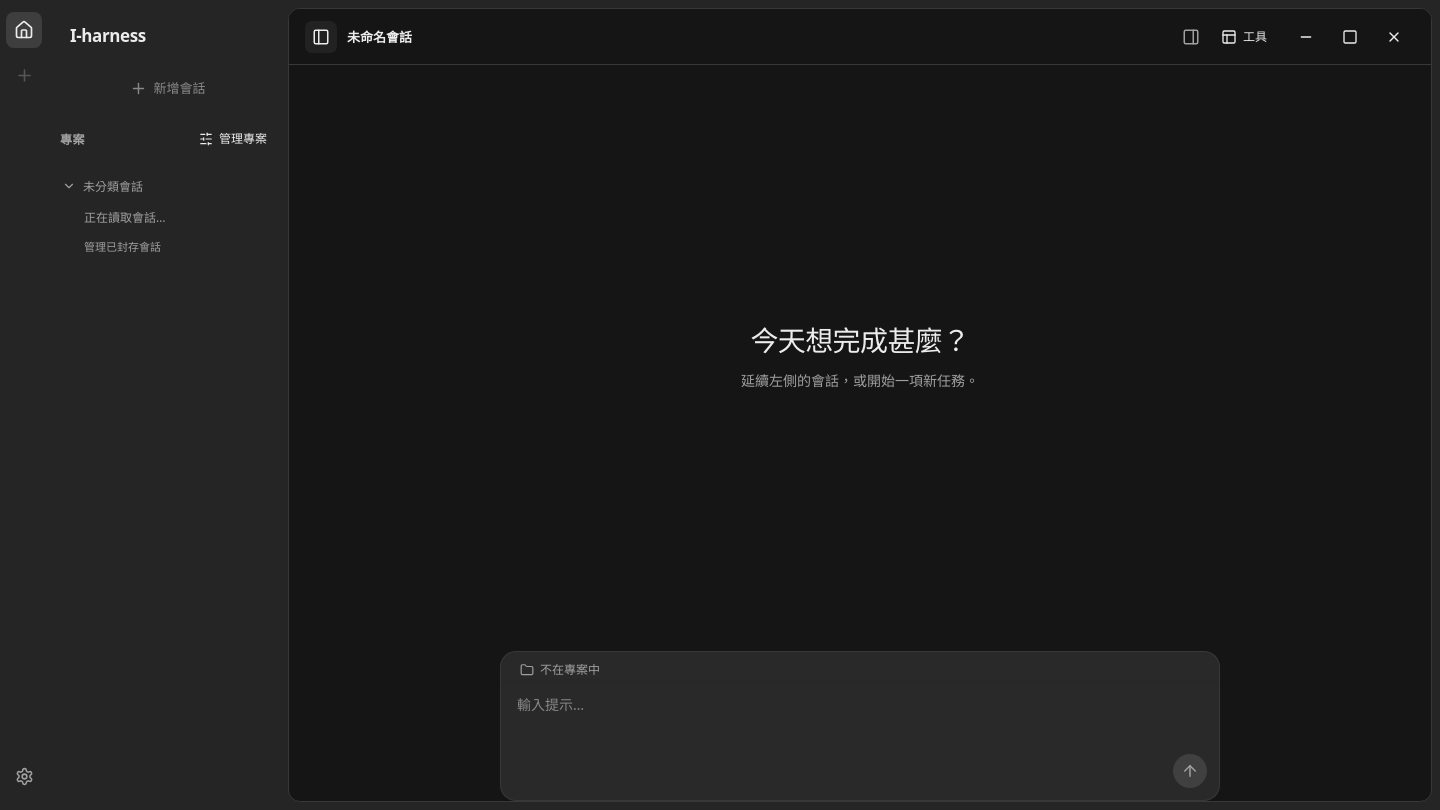
opens delegated work in its own pane while retaining the selected parent conversation
Click the button with aria-label "工作台工具".
click(1244, 36)  # box [1213, 20, 1275, 52]
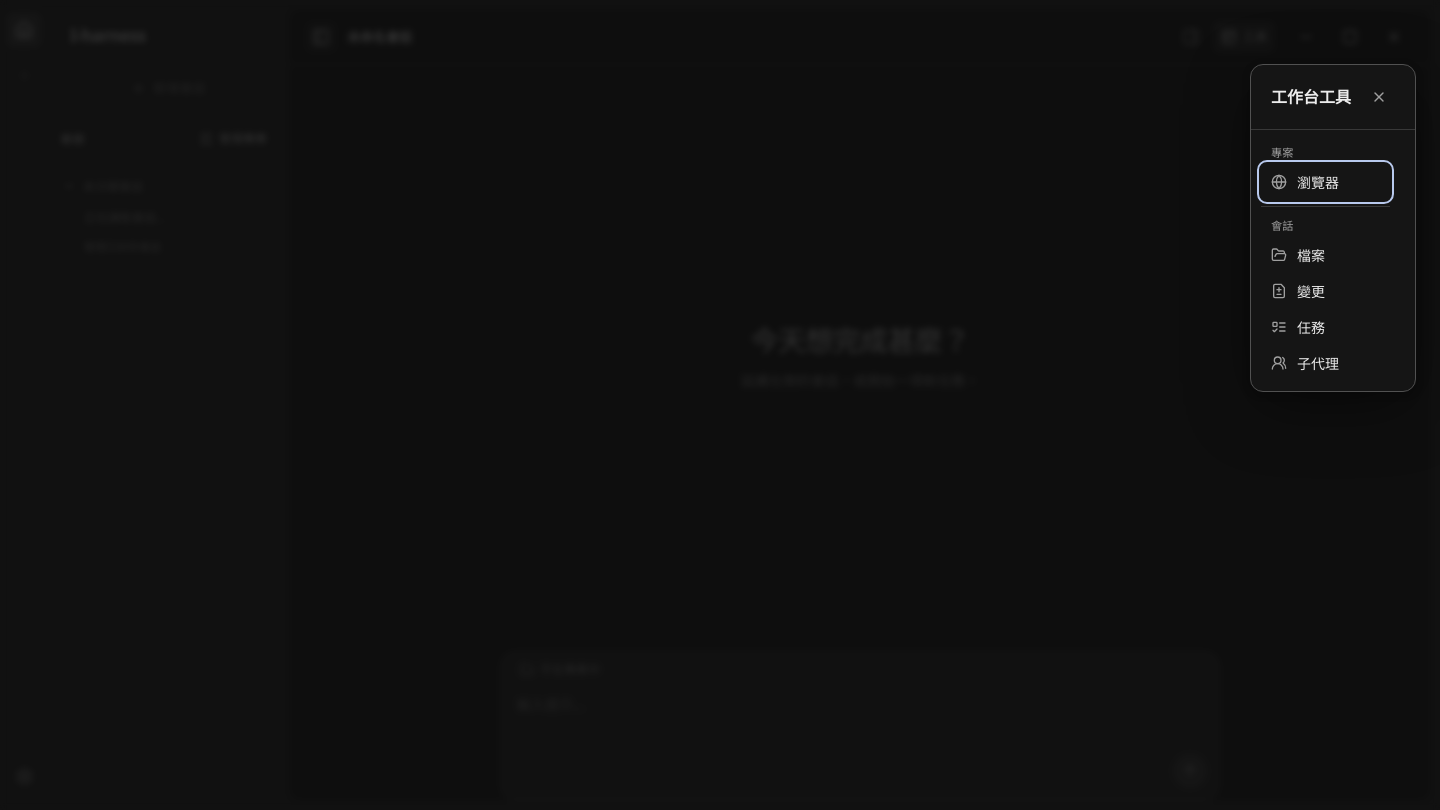
Click the button "子代理".
click(1326, 363)  # box [1261, 345, 1390, 381]
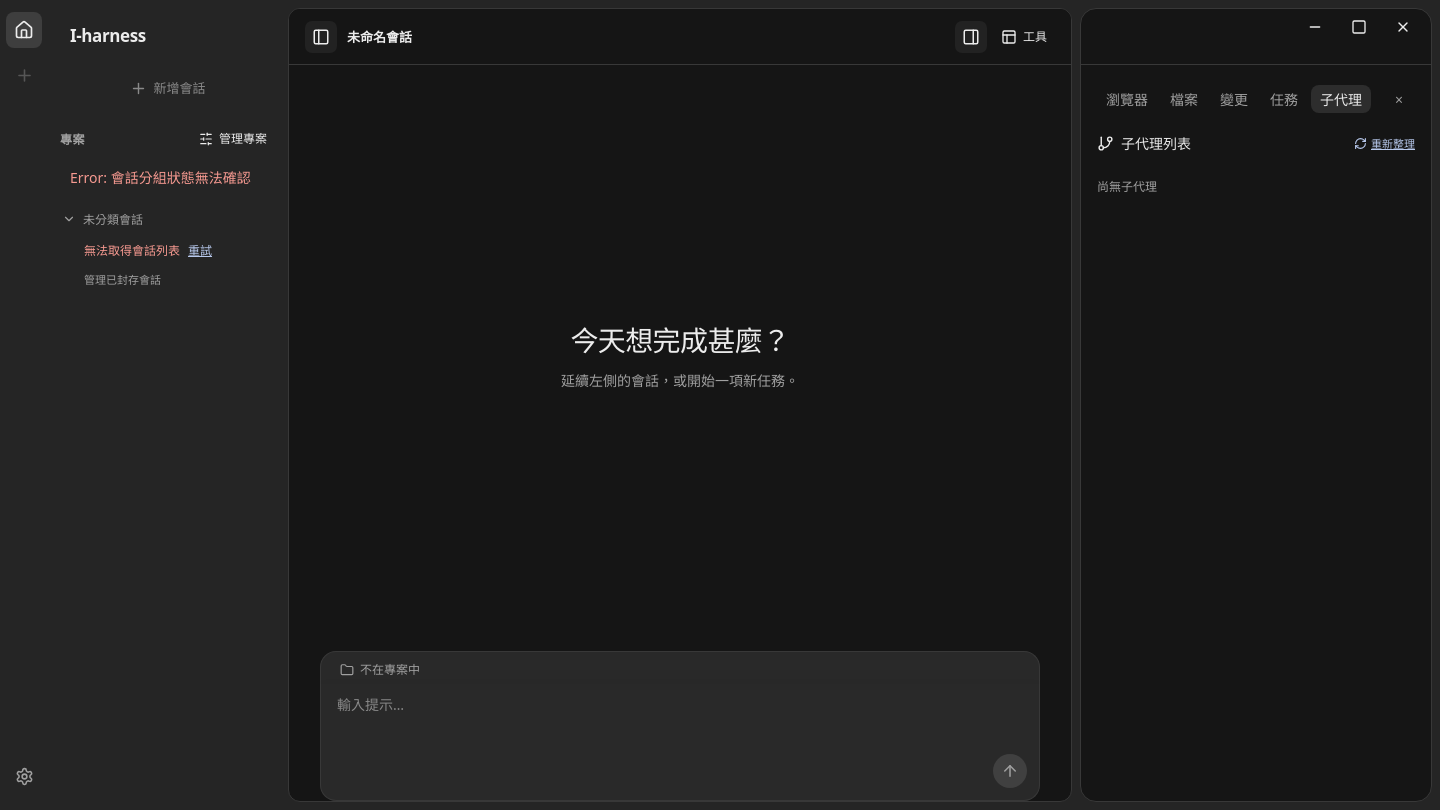
Result: the text "尚無子代理" is shown at [1097, 178, 1157, 195]
